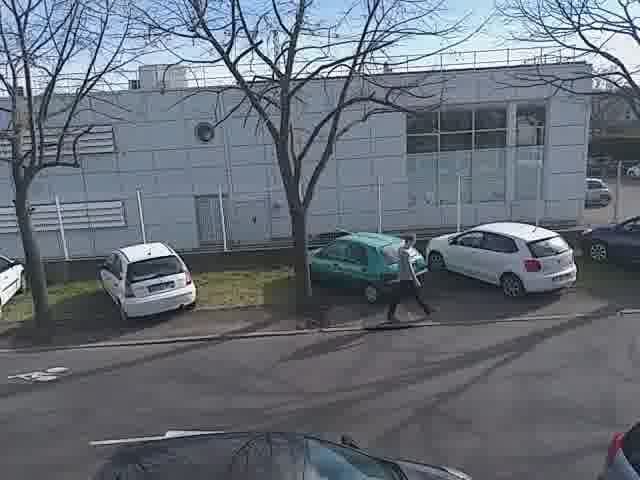persona: (384, 226, 438, 320)
